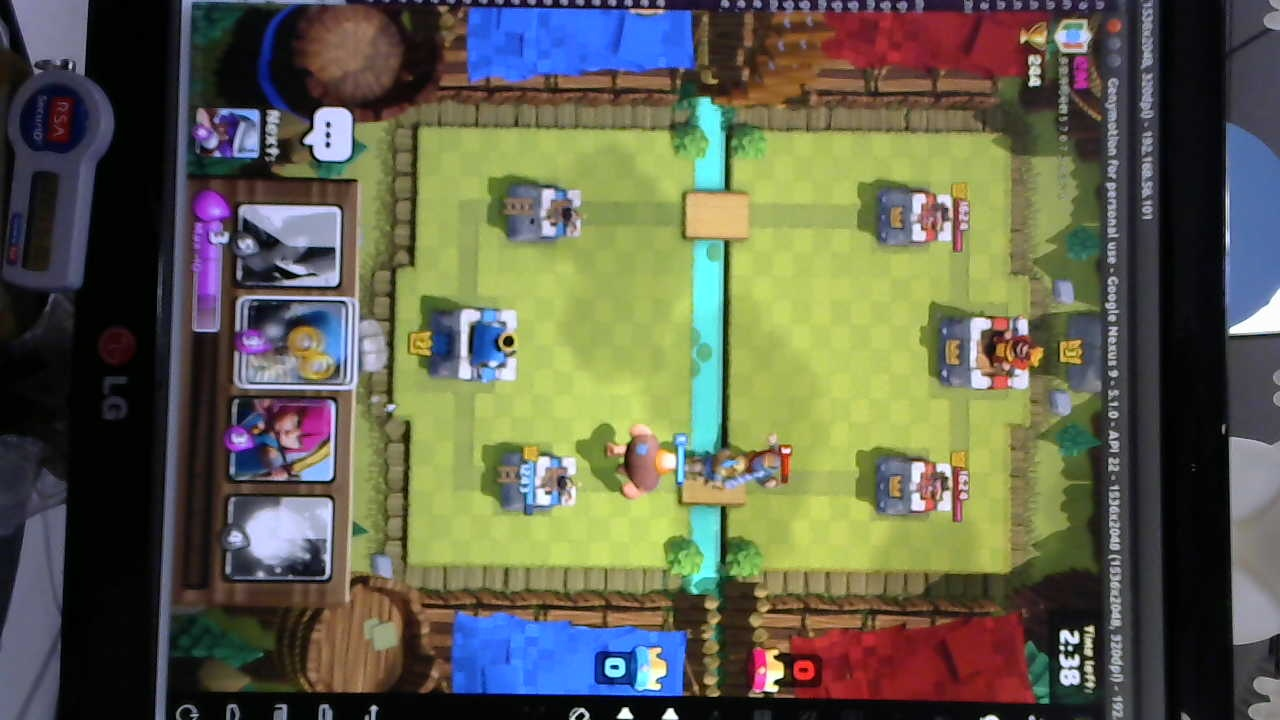arena: (501, 451, 581, 520), (501, 181, 585, 244)
earena: (874, 454, 953, 522), (872, 189, 957, 246)
eking: (939, 310, 1037, 394)
giant: (604, 421, 676, 498)
king: (430, 304, 522, 385)
knight: (745, 429, 790, 503)
prince: (694, 446, 768, 491)
